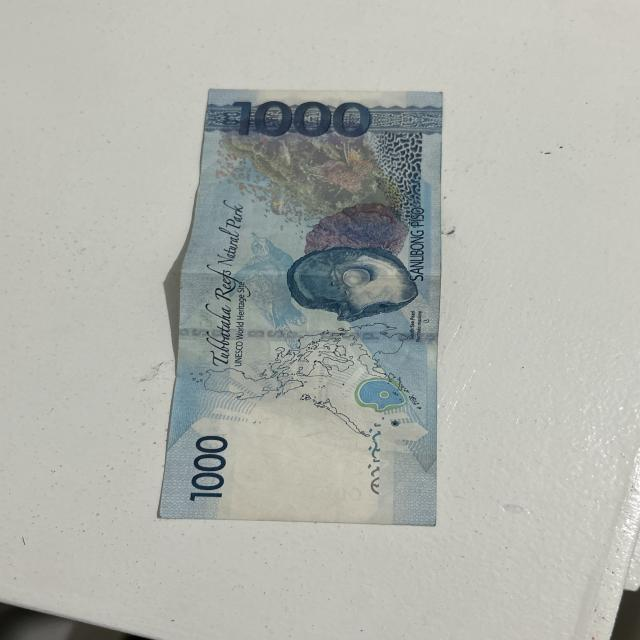1000_pearl: (294, 250, 421, 317)
1000_pearl_watermark: (358, 378, 402, 408)
